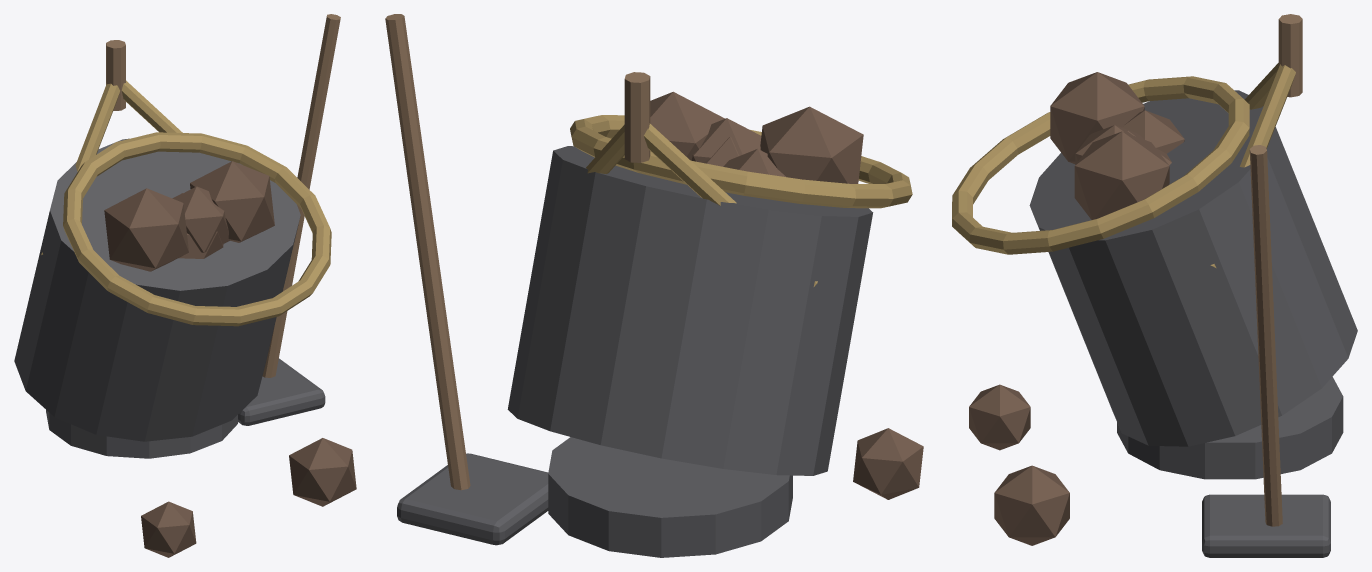
The picture shows the model from 3 angles, left to right: view 1: azimuth 30°, elevation 25°; view 2: azimuth 150°, elevation 25°; view 3: azimuth 270°, elevation 25°; orthographic projection. The views are drawn at different scales.
Parts seen in each view (by area): view 1: coalScuttle; view 2: coalScuttle; view 3: coalScuttle.
Boxes of the visible parts, x1,y1,x2,y2 form: coalScuttle: (14,14,356,557); coalScuttle: (385,14,923,557); coalScuttle: (952,14,1357,557).
Bounding box in the file's own units: 0.5496 × 0.645 × 0.5022.
